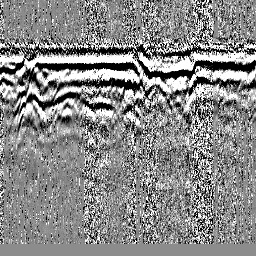cavity: (120, 73, 136, 104)
